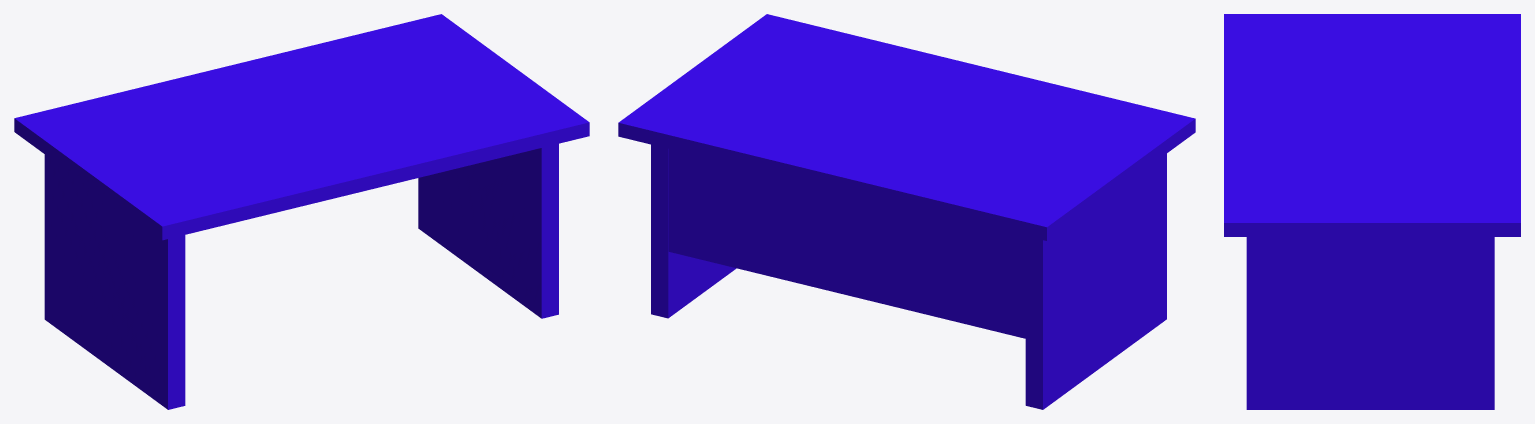
Rendered from office_pack_table_1_meshCollider.fbx.
3 views of the same model, side by side, from view 1: azimuth 30°, elevation 25°; view 2: azimuth 150°, elevation 25°; view 3: azimuth 270°, elevation 25° (orthographic).
Parts seen in each view (by area): view 1: office_pack_table_1_meshCollider; view 2: office_pack_table_1_meshCollider; view 3: office_pack_table_1_meshCollider.
Boxes of the visible parts, left/top/right/bottom form: office_pack_table_1_meshCollider: left=14, top=14, right=589, bottom=409; office_pack_table_1_meshCollider: left=618, top=14, right=1195, bottom=409; office_pack_table_1_meshCollider: left=1224, top=14, right=1520, bottom=409.
Size of the model in its own units: 100 by 43.84 by 60.07.
